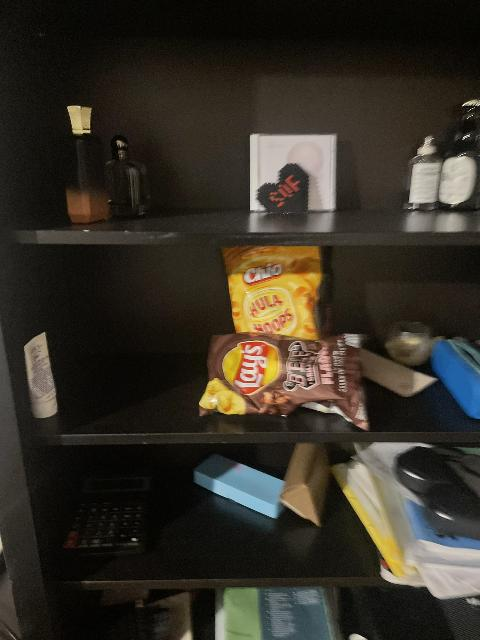Chio Hula Hoops Cheese 70g: (222, 248, 328, 340)
Lays Beef Grilled Ribs 125g: (203, 333, 372, 421)
